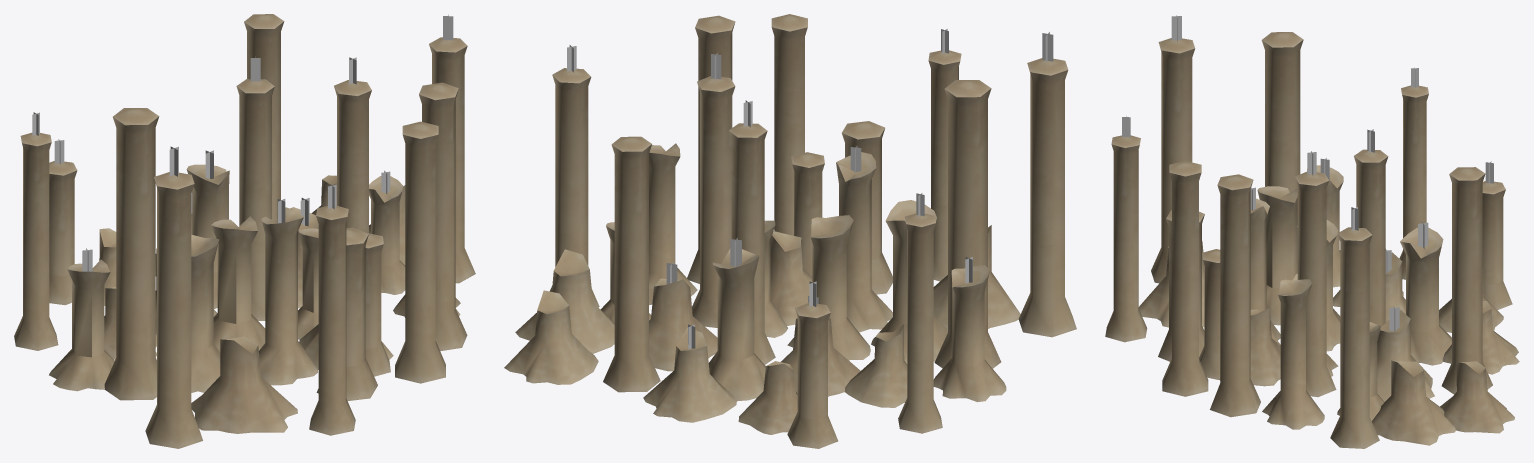
The model's file is SM_Candles_F.fbx.
3 views of the same model, side by side, from view 1: azimuth 30°, elevation 25°; view 2: azimuth 150°, elevation 25°; view 3: azimuth 270°, elevation 25° (orthographic). The views are drawn at different scales.
Parts seen in each view (by area): view 1: SM_Candles_F_LOD0; view 2: SM_Candles_F_LOD0; view 3: SM_Candles_F_LOD0.
Boxes of the visible parts, bbox=[...] form: SM_Candles_F_LOD0: bbox=[14, 14, 475, 448]; SM_Candles_F_LOD0: bbox=[504, 14, 1076, 448]; SM_Candles_F_LOD0: bbox=[1105, 15, 1519, 448].
Size of the model in its own units: 46.69 by 42.96 by 29.63.
2 materials, 1 textured.
